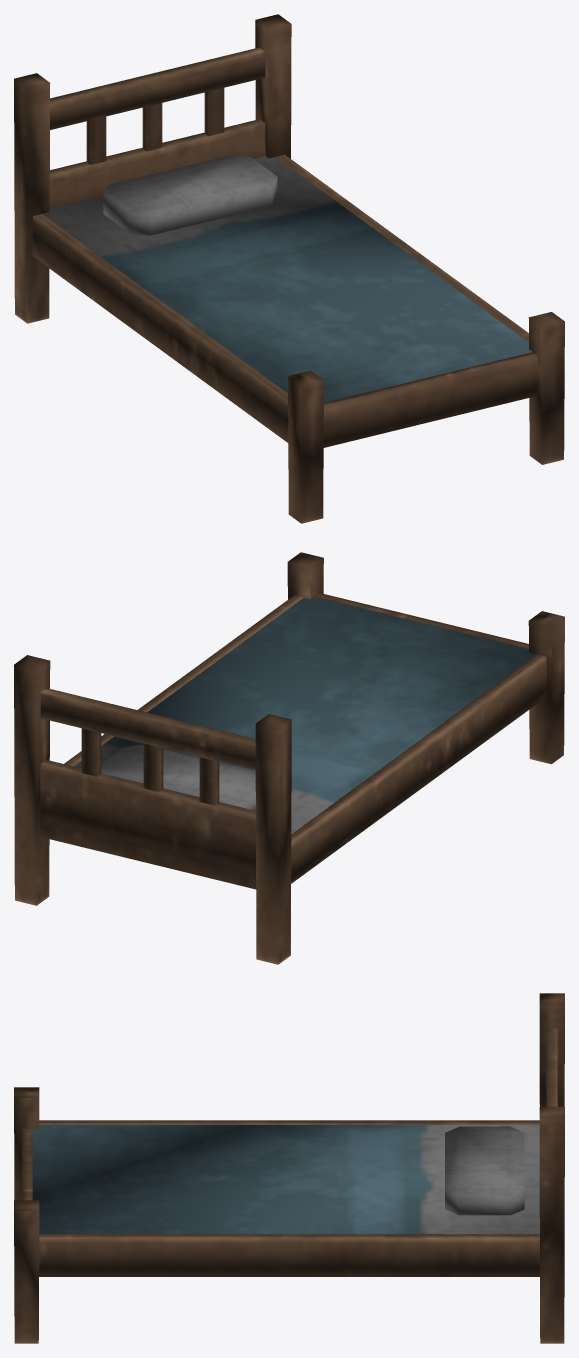
Rendered from krovatka.fbx.
The picture shows the model from 3 angles, top to bottom: view 1: azimuth 30°, elevation 25°; view 2: azimuth 150°, elevation 25°; view 3: azimuth 270°, elevation 25°; orthographic projection. The views are drawn at different scales.
Visible parts, largest first — view 1: Bed; view 2: Bed; view 3: Bed.
Part boxes in pixels (<box>): Bed: <box>14,14,564,523</box>; Bed: <box>14,552,564,964</box>; Bed: <box>14,993,564,1343</box>.
Bounding box in the file's own units: 117 × 99.47 × 219.
1 material, 1 textured.
